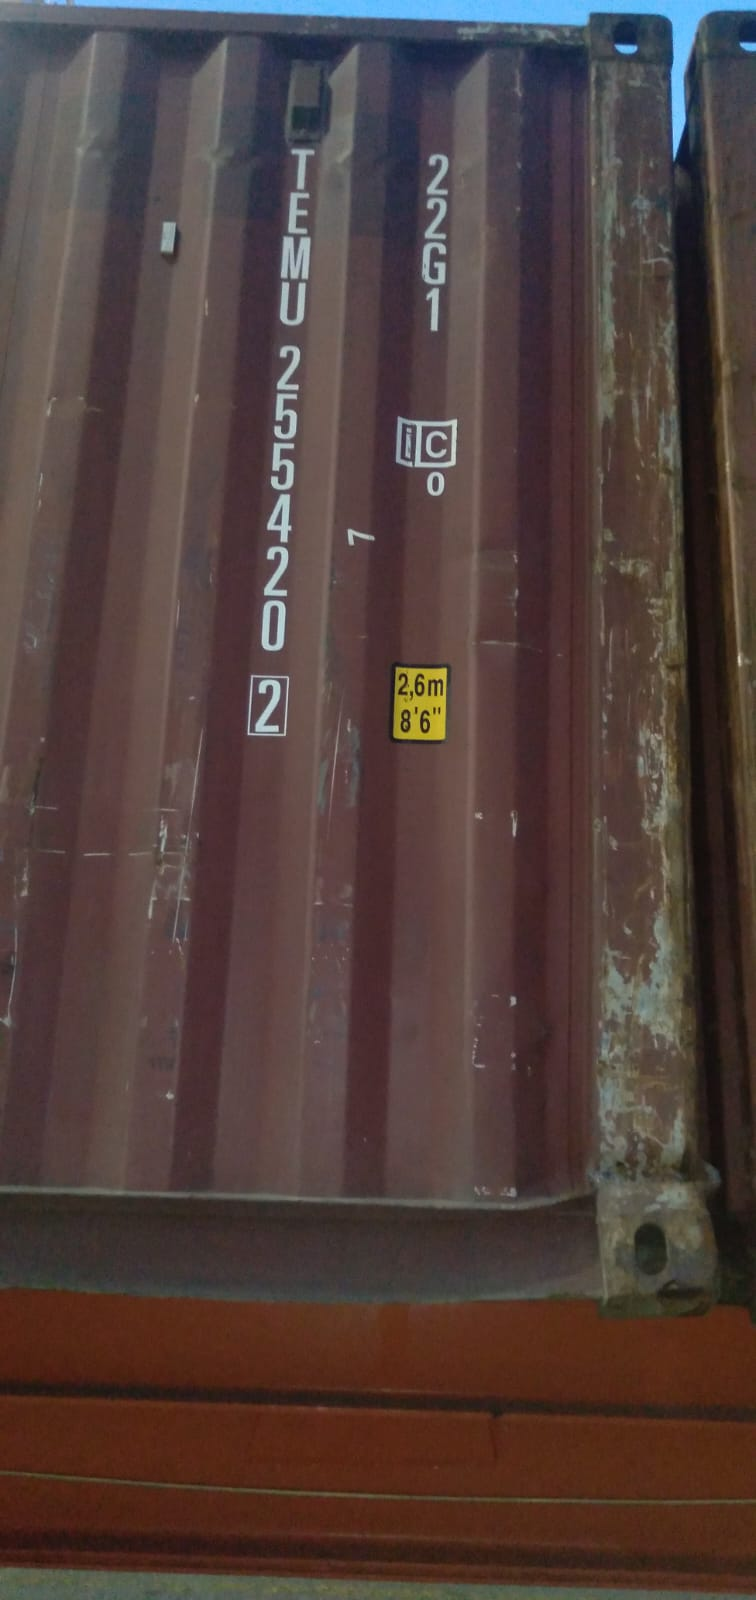bulged: (589, 1049, 730, 1274)
